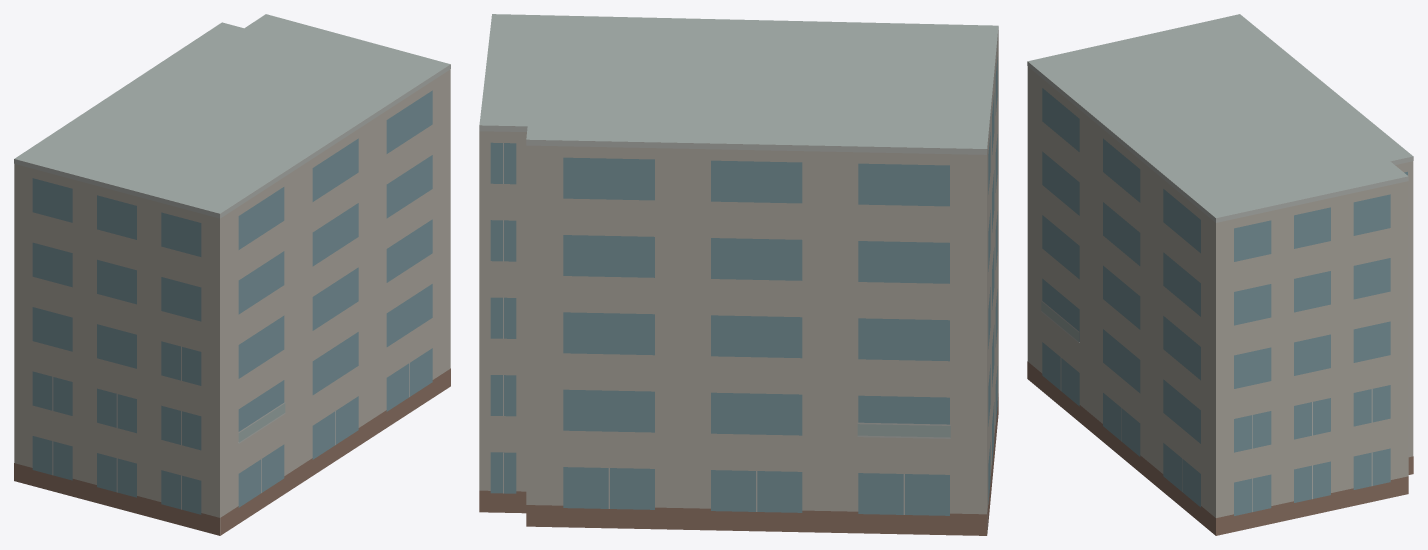
The model's file is survey-upis-32836564.glb.
3 renders of one model, left to right at view 1: azimuth 30°, elevation 25°; view 2: azimuth 150°, elevation 25°; view 3: azimuth 270°, elevation 25°, orthographic. The views are drawn at different scales.
Parts seen in each view (by area): view 1: survey-upis-32836564.tmp; view 2: survey-upis-32836564.tmp; view 3: survey-upis-32836564.tmp.
Part boxes in pixels (<box>): survey-upis-32836564.tmp: <box>14,14,450,535</box>; survey-upis-32836564.tmp: <box>479,14,998,535</box>; survey-upis-32836564.tmp: <box>1027,14,1413,535</box>.
Size of the model in its own units: 22.49 by 16.3 by 17.96.
